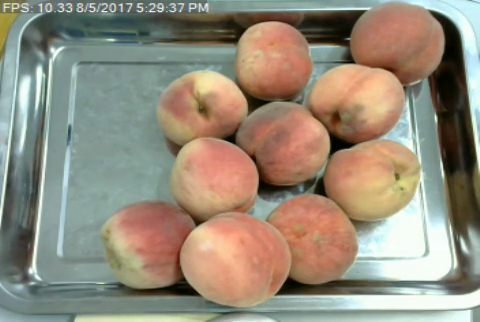Peach: (179, 211, 291, 305), (98, 199, 198, 288), (263, 194, 358, 284), (309, 60, 407, 145), (321, 139, 416, 220), (347, 4, 444, 81), (172, 137, 259, 220), (240, 103, 327, 185), (159, 68, 248, 147), (231, 19, 316, 99)
